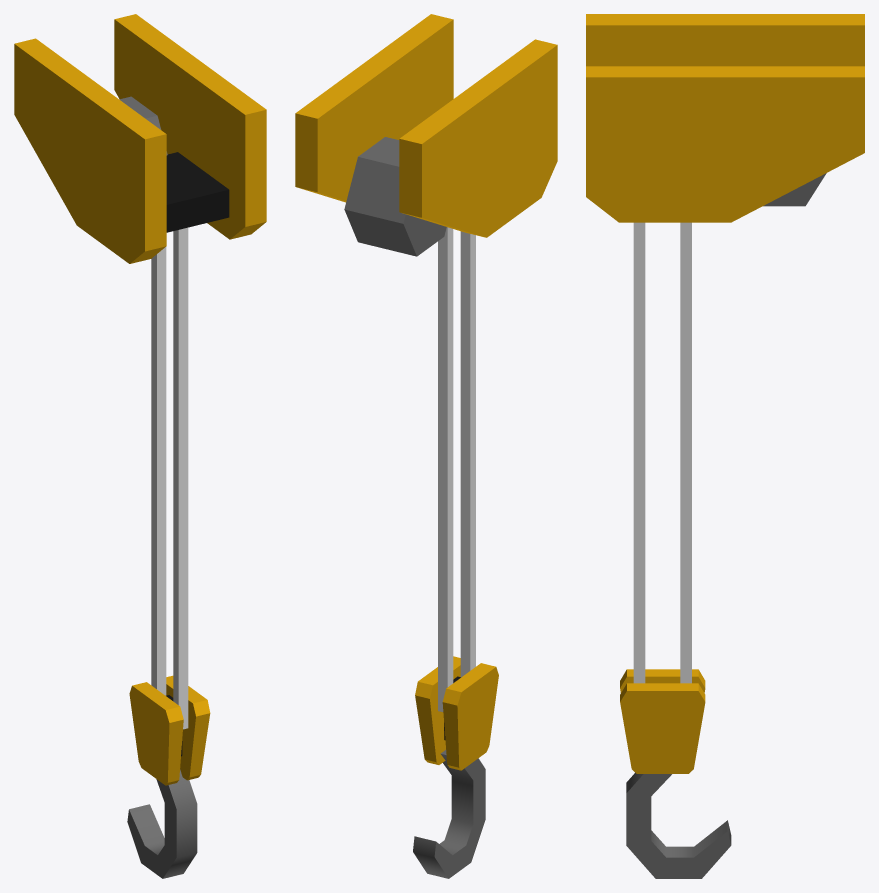
File: crane_full.glb
3 views of the same model, side by side, from view 1: azimuth 30°, elevation 25°; view 2: azimuth 150°, elevation 25°; view 3: azimuth 270°, elevation 25° (orthographic). The views are drawn at different scales.
Parts seen in each view (by area): view 1: Cube.102; view 2: Cube.102; view 3: Cube.102.
Boxes of the visible parts, bbox=[...] form: Cube.102: bbox=[14, 14, 266, 878]; Cube.102: bbox=[295, 14, 557, 878]; Cube.102: bbox=[586, 14, 864, 878].
Size of the model in its own units: 0.6358 by 3.87 by 1.18.
